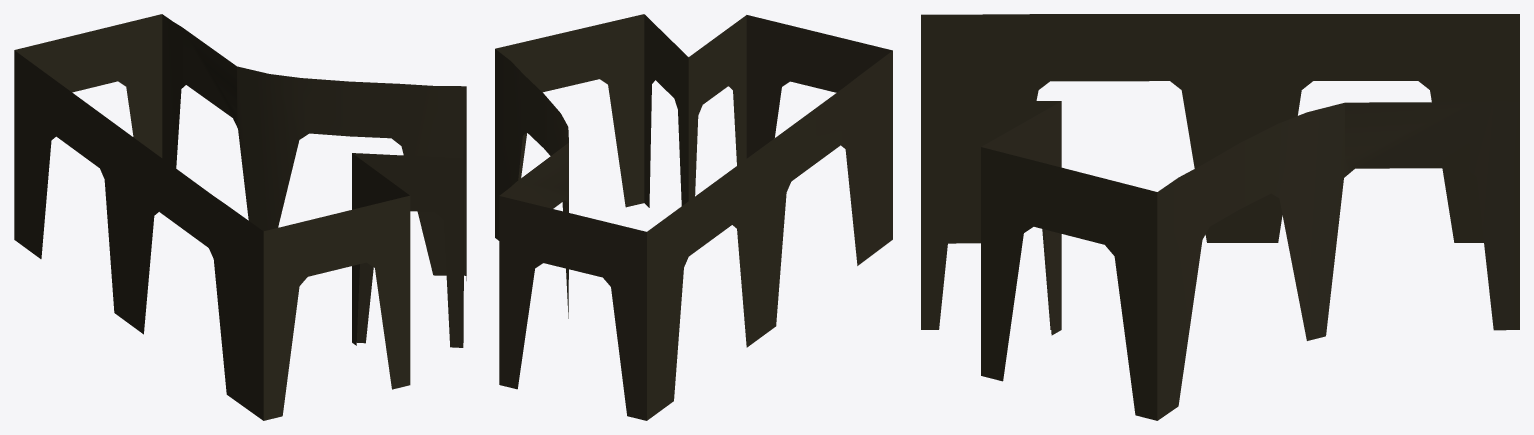
Rendered from Road_Fork_Bridge.fbx.
The picture shows the model from 3 angles, left to right: view 1: azimuth 30°, elevation 25°; view 2: azimuth 150°, elevation 25°; view 3: azimuth 270°, elevation 25°; orthographic projection. The views are drawn at different scales.
Visible parts, largest first — view 1: Road_Fork_Bridge; view 2: Road_Fork_Bridge; view 3: Road_Fork_Bridge.
Part boxes in pixels (bbox=[...]): Road_Fork_Bridge: bbox=[14, 14, 466, 420]; Road_Fork_Bridge: bbox=[495, 14, 892, 420]; Road_Fork_Bridge: bbox=[921, 14, 1519, 420].
Size of the model in its own units: 0.6131 by 0.8712 by 0.3674.
